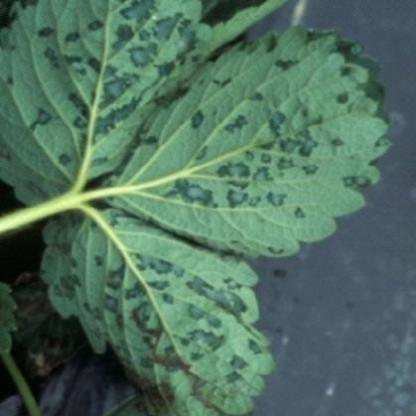Strawberry_Angular_LeafSpot: (94, 25, 394, 258), (0, 0, 289, 208), (40, 202, 277, 416)
